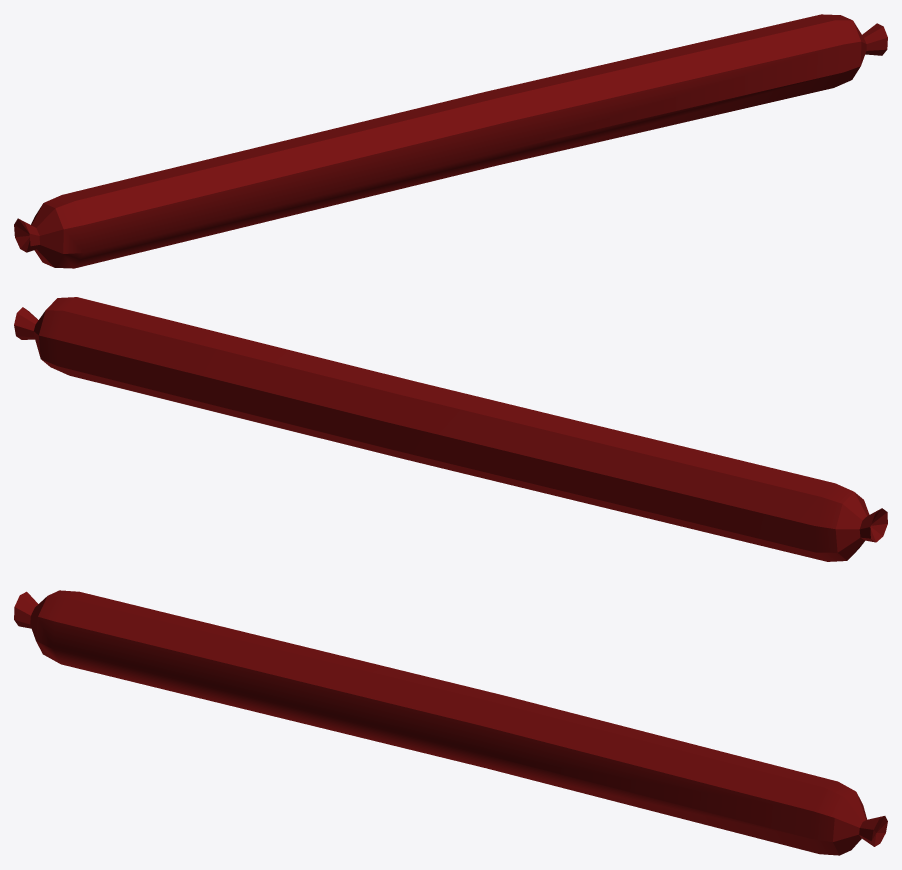
The model's file is PT_Sausage_06.fbx.
The picture shows the model from 3 angles, top to bottom: view 1: azimuth 30°, elevation 25°; view 2: azimuth 150°, elevation 25°; view 3: azimuth 330°, elevation 25°; orthographic projection.
Visible parts, largest first — view 1: PT_Sausage_06; view 2: PT_Sausage_06; view 3: PT_Sausage_06.
Boxes of the visible parts, bbox=[...] form: PT_Sausage_06: bbox=[14, 14, 887, 268]; PT_Sausage_06: bbox=[14, 297, 887, 561]; PT_Sausage_06: bbox=[14, 590, 887, 855].
Bounding box in the file's own units: 38.13 × 3.01 × 2.83.
Materials: 1 (1 with a texture image).
